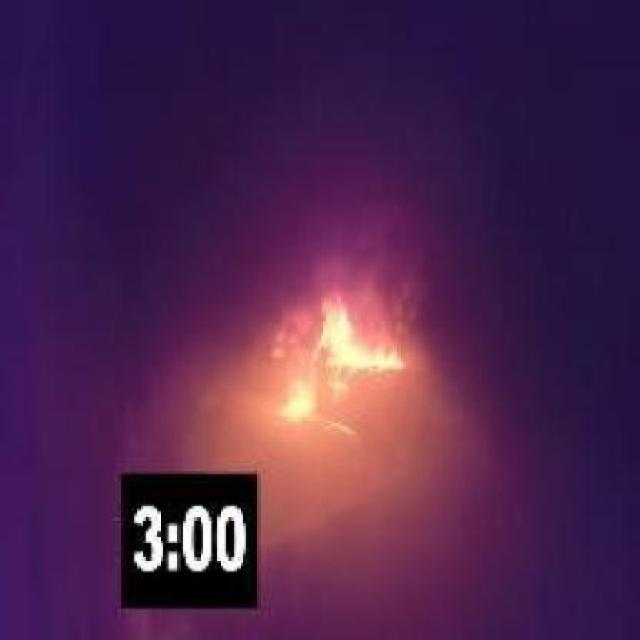Fire: (270, 269, 404, 431)
